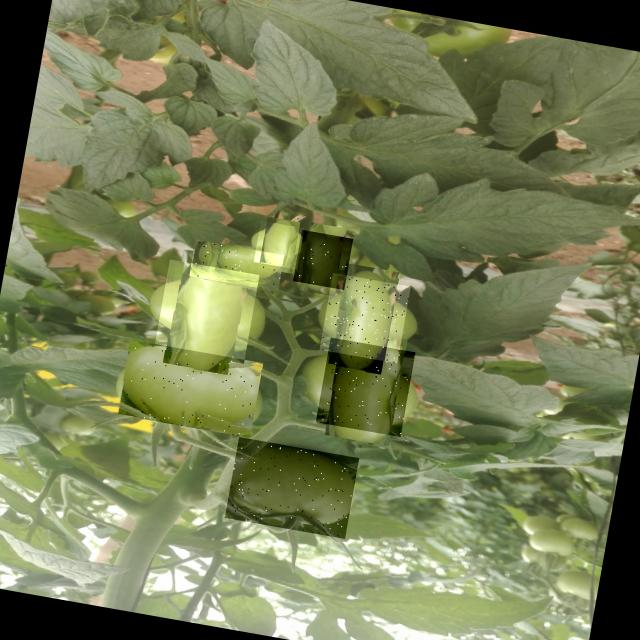Unripe Tomato: (116, 340, 262, 438), (224, 436, 358, 538), (154, 259, 259, 363), (315, 337, 415, 437), (319, 272, 410, 363), (189, 239, 284, 291), (292, 230, 352, 290), (253, 220, 304, 269)
